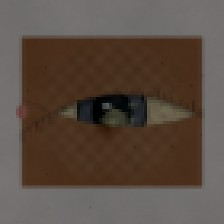corneal_ulcer: (95, 105, 135, 137)
